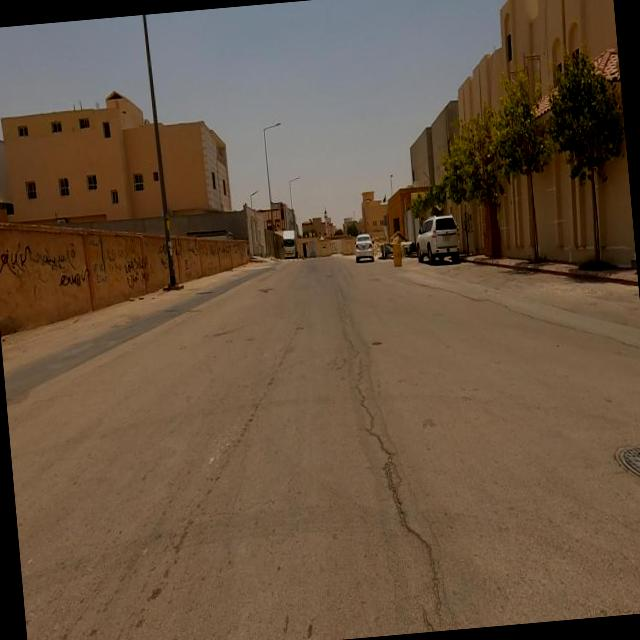debris: (0, 214, 122, 298), (39, 240, 106, 322), (156, 210, 223, 288), (109, 230, 176, 306), (203, 225, 247, 272)
